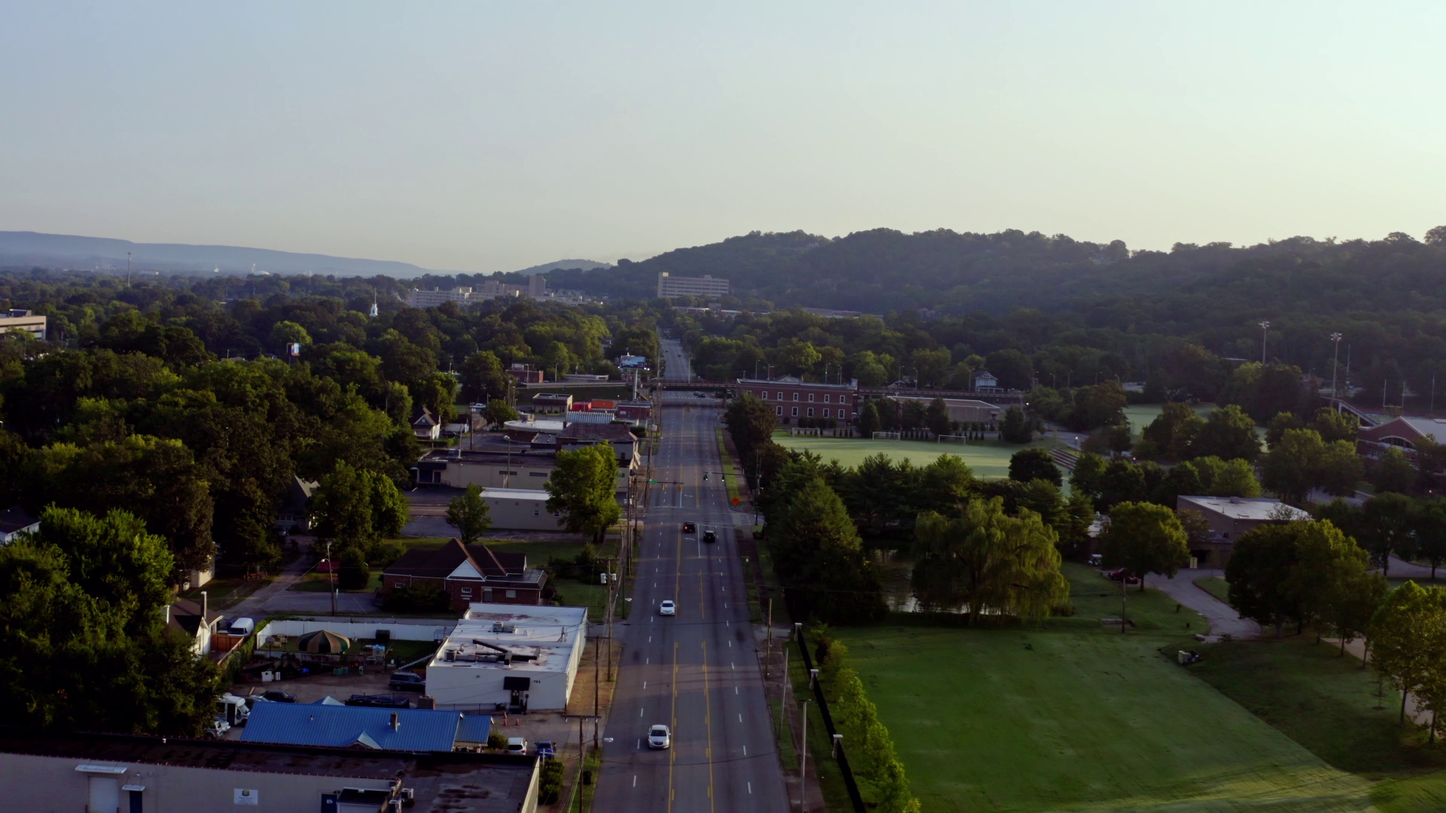Vehicle: (215, 693, 251, 727), (216, 692, 241, 727), (388, 671, 426, 691), (204, 716, 231, 739), (647, 724, 671, 749), (227, 617, 254, 638), (1108, 568, 1138, 584), (263, 690, 297, 703), (534, 740, 556, 759), (507, 737, 527, 755), (659, 600, 676, 616), (703, 530, 716, 543), (683, 521, 695, 533), (442, 431, 457, 438), (693, 391, 705, 398), (473, 403, 486, 408), (677, 354, 681, 356)
